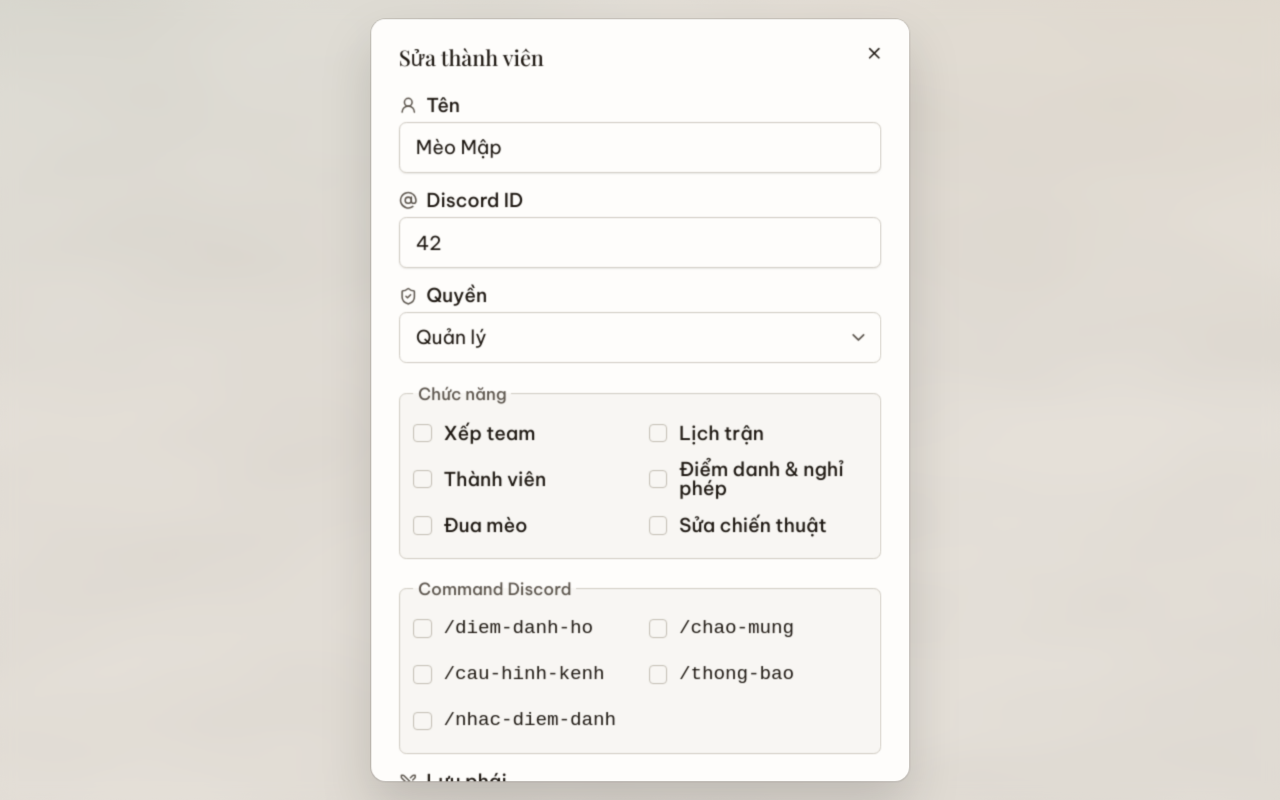
Test: MemberFormDialog - Grant › đổi vai khỏi Quản lý thì checklist biến mất
The width and height of the screenshot is (1280, 800).
Expected: the text "Chức năng" is shown, [414,382,512,406]
Press the mouse on the dropdown named "Quyền" at [451, 338], box [399,313,881,363]
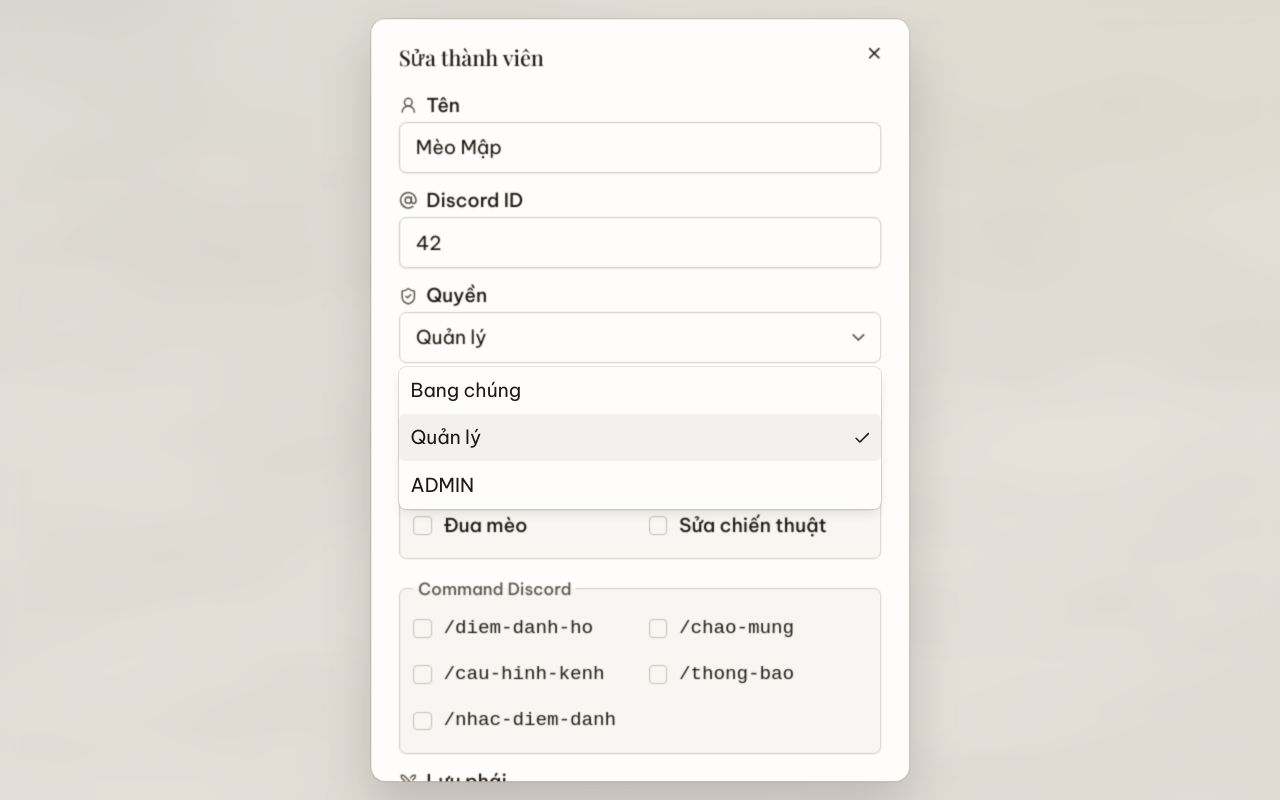
Click the option "Bang chúng" at [466, 390], box [410,378,521,402]
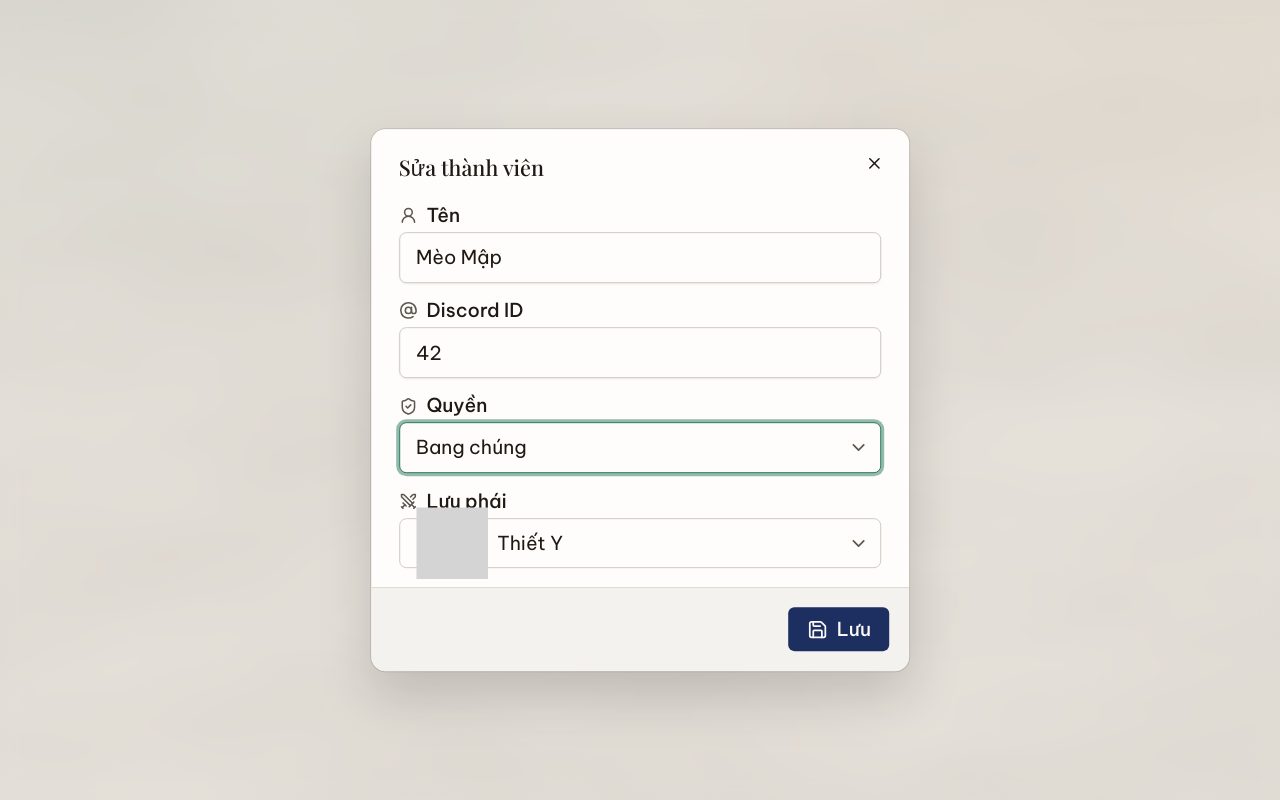
Result: the text "Chức năng" is gone
